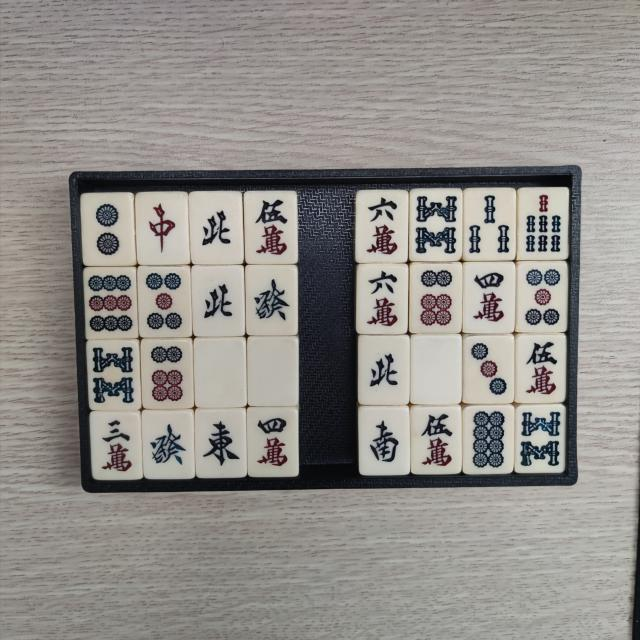hdg: (251, 271, 295, 333), (148, 415, 192, 476)
hdr: (140, 195, 182, 260)
hdw: (198, 341, 242, 403), (414, 340, 458, 400), (253, 341, 295, 401)
hwe: (199, 414, 242, 475)
hwn: (196, 196, 239, 258), (197, 269, 240, 331), (364, 340, 404, 400)
hws: (364, 412, 406, 469)
sb3: (469, 192, 514, 258)
sb7: (524, 190, 566, 256)
sb8: (414, 192, 459, 258), (90, 343, 136, 406), (520, 408, 562, 471)
sc3: (95, 416, 136, 478)
sc4: (468, 266, 512, 328), (253, 412, 294, 472)
sc5: (250, 194, 294, 259), (520, 338, 562, 401), (414, 410, 456, 470)
sc6: (362, 193, 404, 257), (362, 267, 404, 329)
sd2: (88, 197, 130, 260)
sd3: (468, 340, 511, 401)
sd5: (142, 270, 188, 332), (522, 265, 564, 329)
sd6: (415, 267, 458, 329), (148, 344, 190, 406)
sd8: (468, 408, 511, 469)
sd9: (86, 270, 132, 334)
